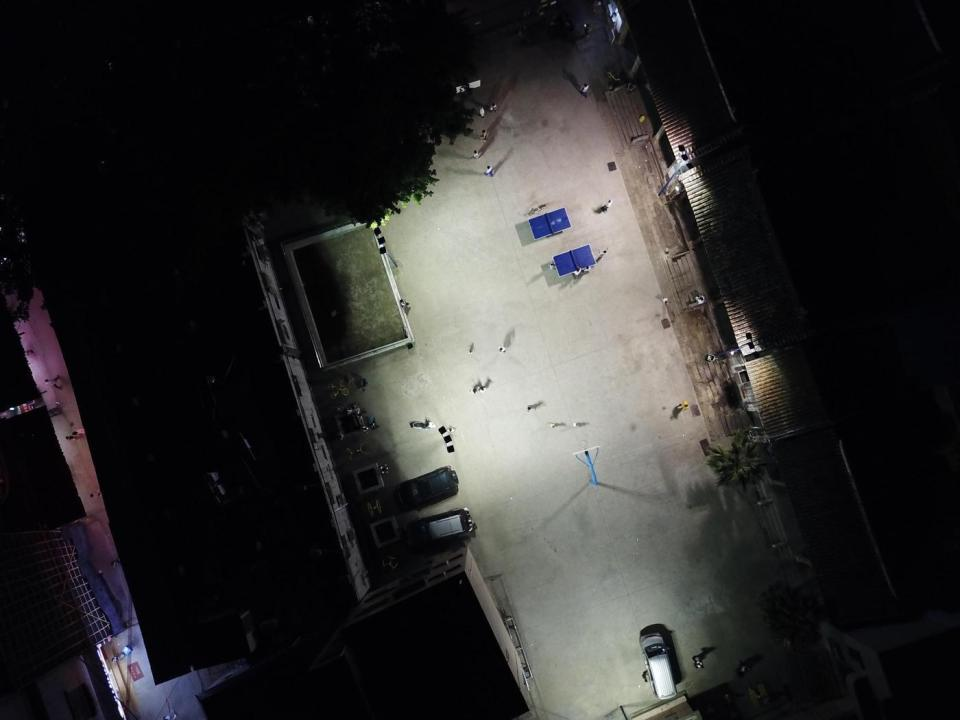car: (403, 507, 475, 550), (395, 465, 459, 512)
van: (640, 632, 677, 700)
